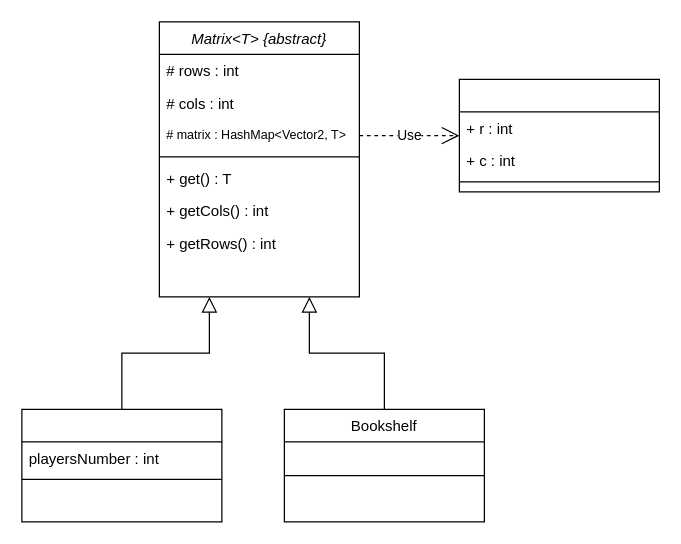
The diagram is 681 pixels wide and 544 high, and some of its shapes have lost their labels. The box of each missing label's shape, as (x1, y1, x2, y2) in pixels:
Board: (21, 408, 222, 522)
MatrixCoords: (458, 78, 659, 192)
